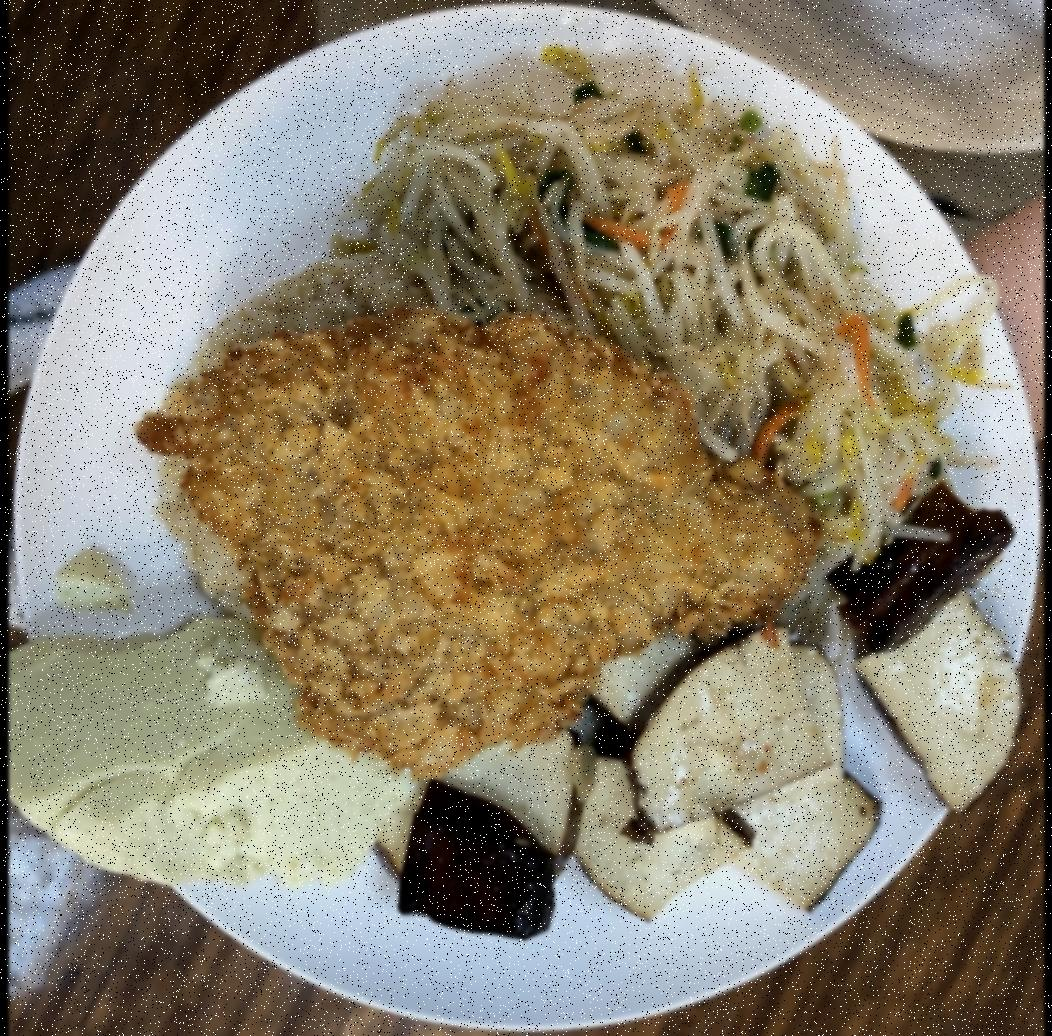brown rice: (158, 252, 454, 632)
fried pork chops: (194, 335, 808, 761)
plate: (10, 7, 1033, 1036)
side dish: (351, 43, 994, 535), (378, 512, 1024, 944), (10, 595, 406, 895)
